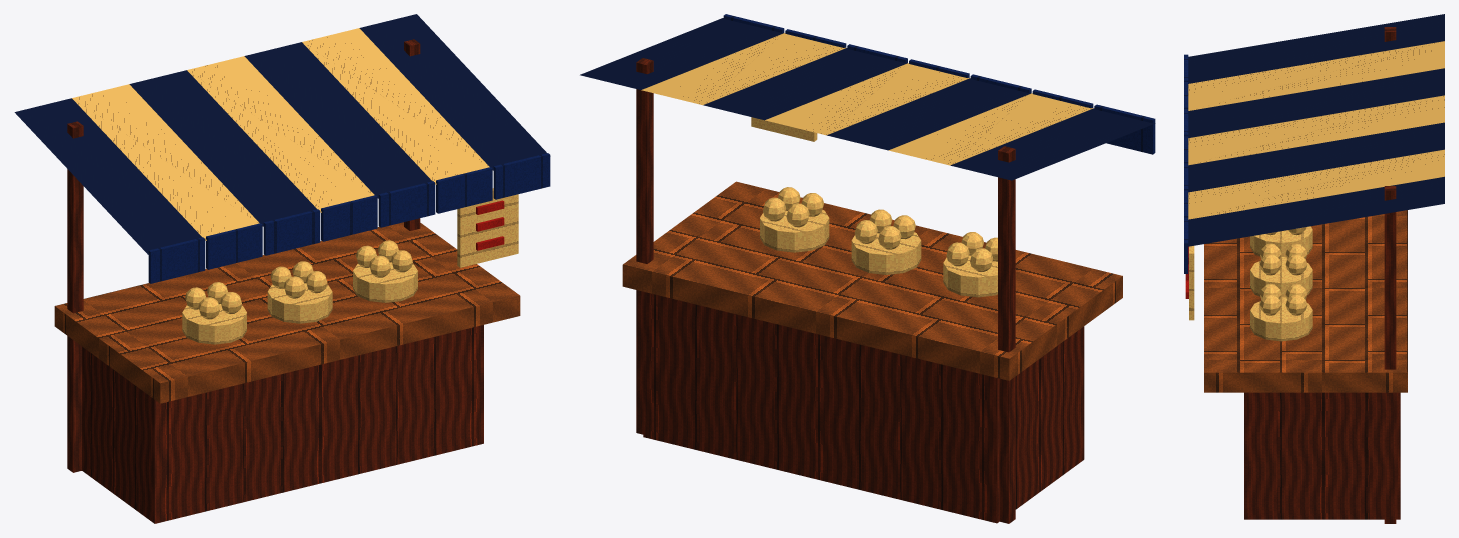
File: dumpling_stall.glb
3 views of the same model, side by side, from view 1: azimuth 30°, elevation 25°; view 2: azimuth 150°, elevation 25°; view 3: azimuth 270°, elevation 25° (orthographic). The views are drawn at different scales.
Parts seen in each view (by area): view 1: dumpling_stall; view 2: dumpling_stall; view 3: dumpling_stall.
Part boxes in pixels (left/top/right/bottom): dumpling_stall: left=14, top=14, right=550, bottom=523; dumpling_stall: left=580, top=14, right=1155, bottom=523; dumpling_stall: left=1184, top=14, right=1444, bottom=523.
Size of the model in its own units: 3.3 by 2.7 by 1.91.
Materials: 5 (5 with a texture image).
